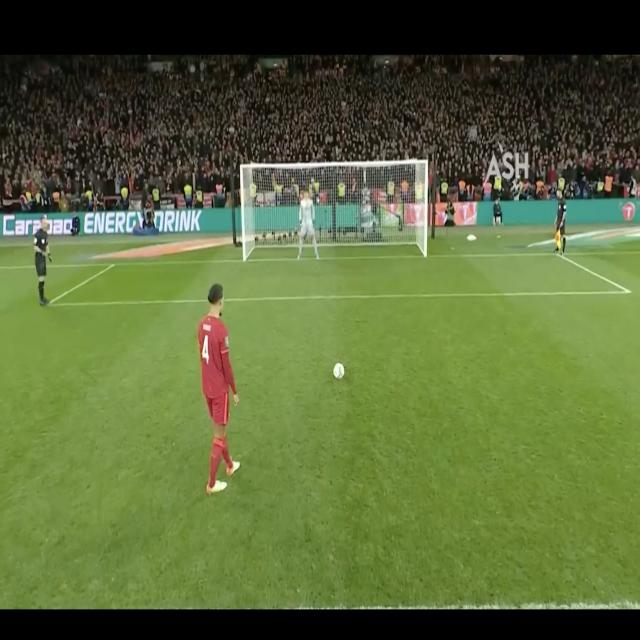soccer-goal: (241, 166, 425, 261)
